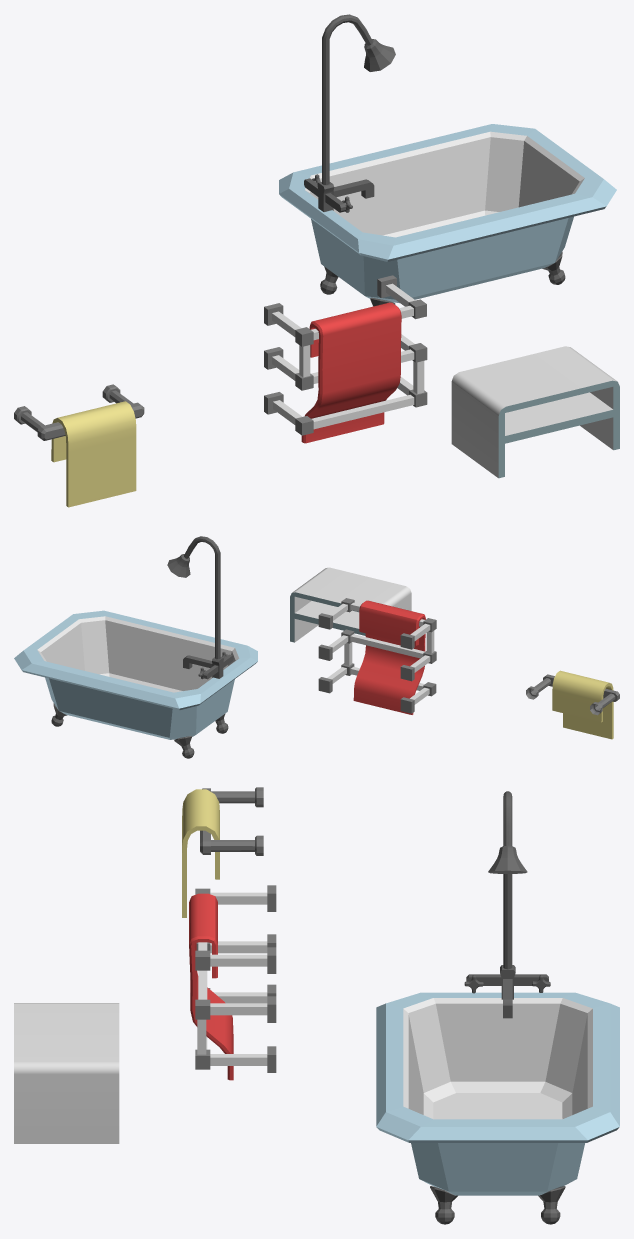
Rendered from Level_4.fbx.
The picture shows the model from 3 angles, top to bottom: view 1: azimuth 30°, elevation 25°; view 2: azimuth 150°, elevation 25°; view 3: azimuth 270°, elevation 25°; orthographic projection. The views are drawn at different scales.
Visible parts, largest first — view 1: Tub, Towel (×2), Table3, Towel_Stand, Tap, Stand1; view 2: Tub, Towel (×2), Table3, Towel_Stand, Tap, Stand1; view 3: Tub, Table3, Towel_Stand, Towel (×2), Tap, Stand1.
Part boxes in pixels (x1,y1,x2,y2): Tub: (279, 124, 616, 306); Towel (×2): (51, 302, 401, 507); Table3: (451, 346, 619, 478); Towel_Stand: (264, 275, 427, 435); Tap: (304, 14, 395, 212); Stand1: (14, 384, 144, 440); Tub: (14, 610, 257, 758); Towel (×2): (353, 600, 613, 739); Table3: (290, 567, 411, 642); Towel_Stand: (318, 598, 436, 713); Tap: (167, 536, 233, 679); Stand1: (526, 674, 619, 715); Tub: (376, 992, 619, 1224); Table3: (14, 1003, 119, 1143); Towel_Stand: (195, 885, 276, 1072); Towel (×2): (182, 789, 233, 1080); Tap: (464, 791, 550, 1018); Stand1: (200, 787, 263, 855).
Bounding box in the file's own units: 13.75 × 5.83 × 9.66.
